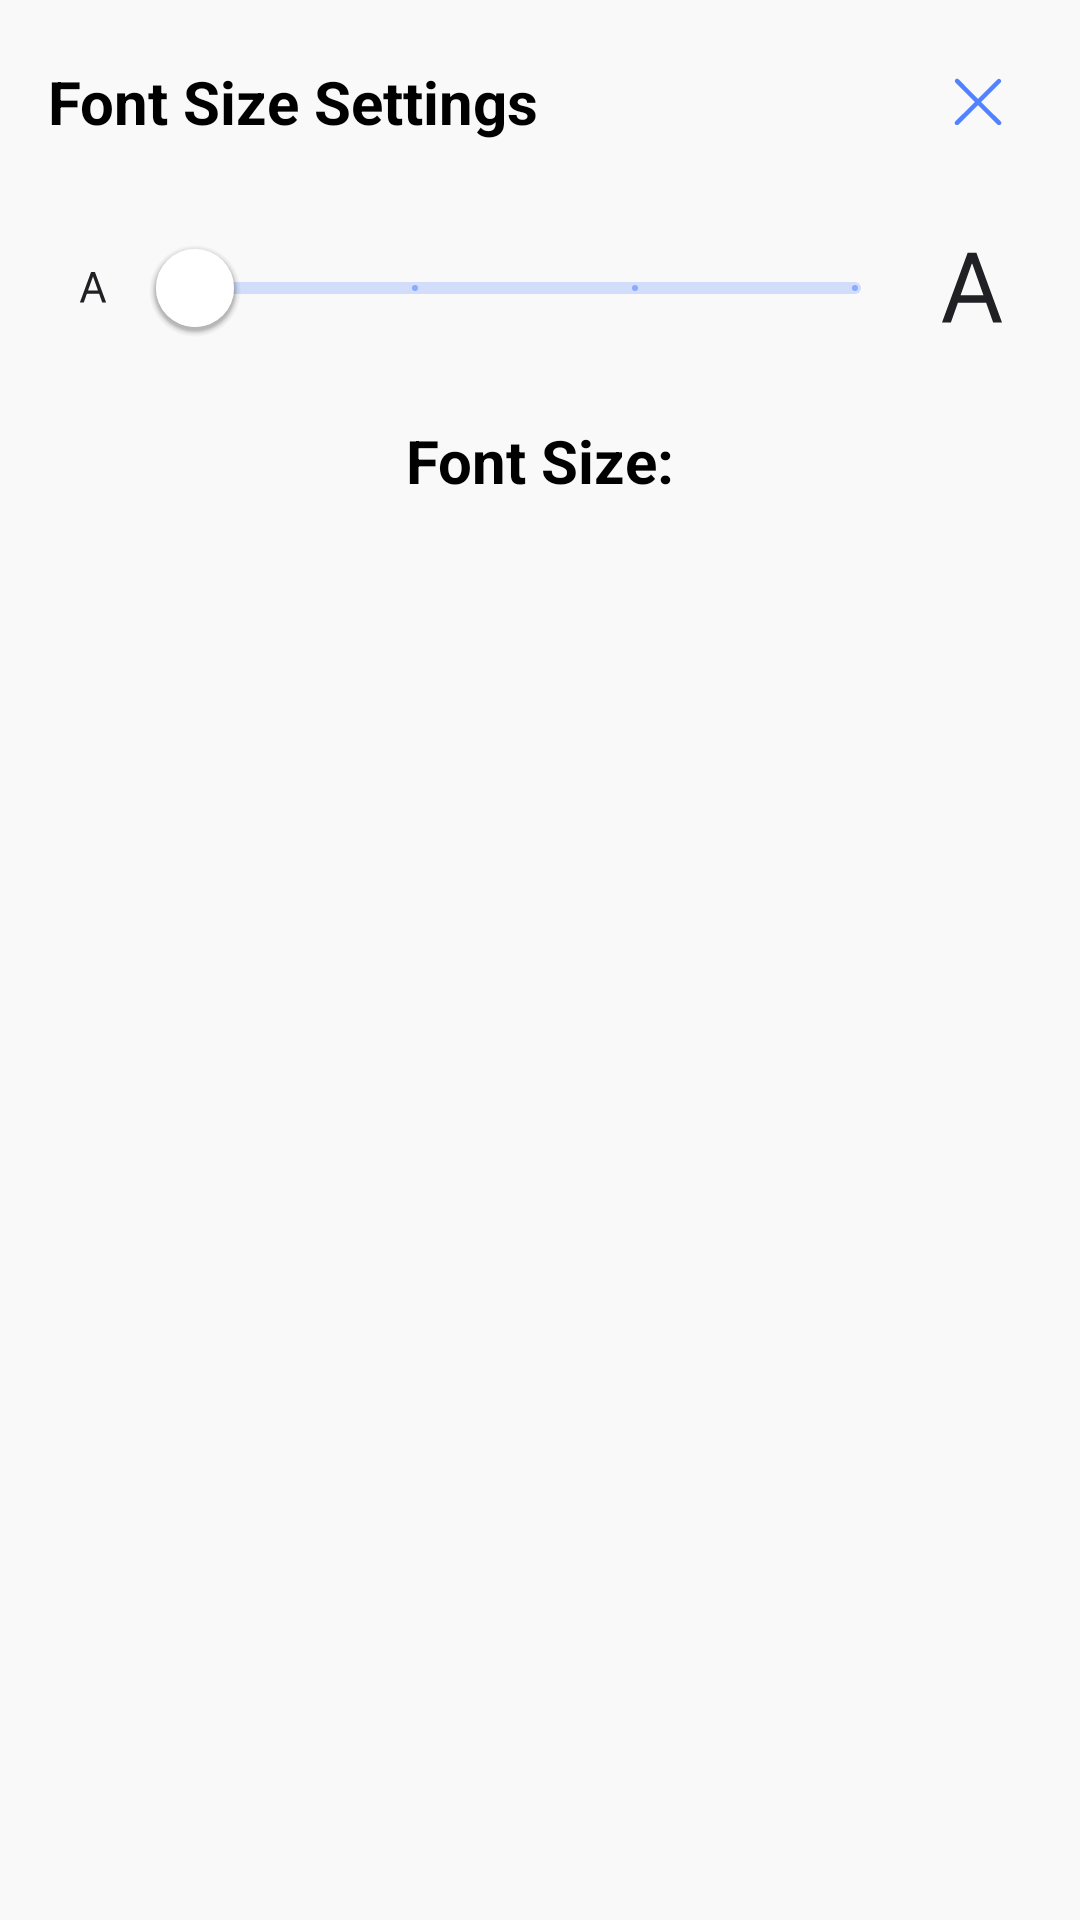

Icons on this 1080px×1920px Android screen, each with its box as (x1, y1, x2, y2):
close: (954, 78, 1002, 125)
Slider Large Font Icon: (942, 252, 1002, 323)
Slider Small Font Icon: (80, 272, 106, 303)
